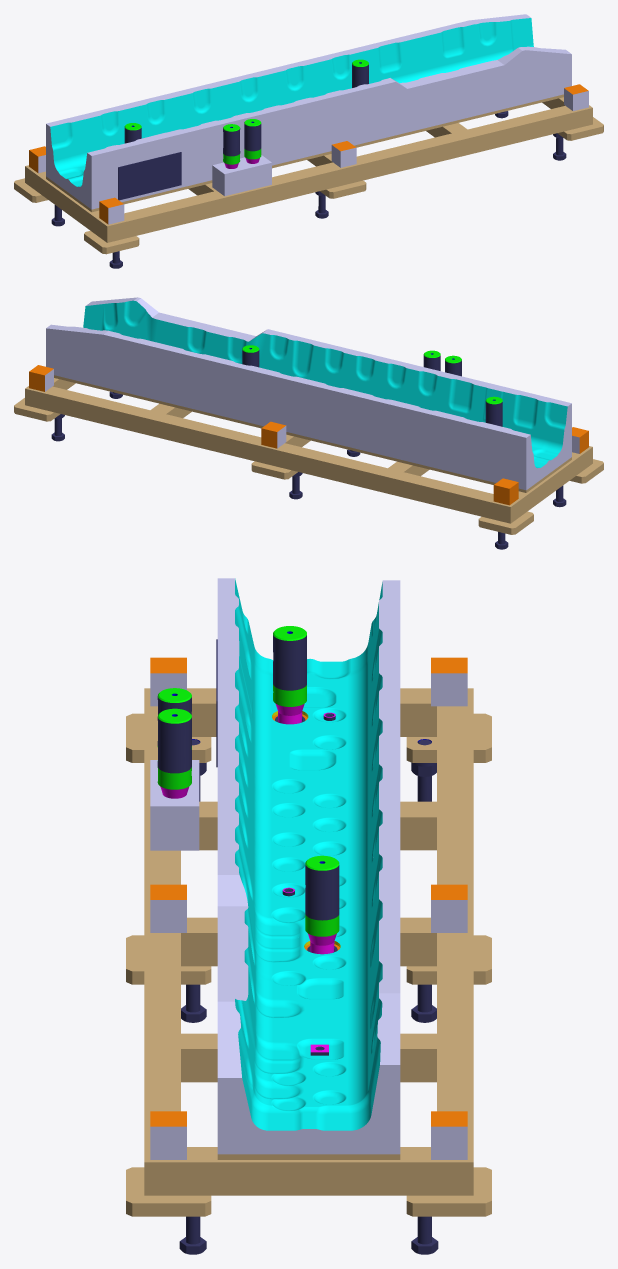
The model's file is GT146655-63225_625-3HAA-J000-H1_K00_261001-KEN_RL.obj.
The picture shows the model from 3 angles, top to bottom: view 1: azimuth 30°, elevation 25°; view 2: azimuth 150°, elevation 25°; view 3: azimuth 270°, elevation 25°; orthographic projection. The views are drawn at different scales.
Visible parts, largest first — view 1: Shell_044, Shell_017, Shell_056, Shell_057, Shell_019, Shell_007, Shell_059, Shell_058, Shell_011, Shell_005, Shell_001, Shell_003 (+5 smaller); view 2: Shell_044, Shell_016, Shell_019, Shell_007, Shell_012, Shell_000, Shell_004, Shell_002, Shell_010, Shell_061, Shell_008, Shell_005 (+2 smaller); view 3: Shell_044, Shell_016, Shell_018, Shell_017, Shell_014, Shell_013, Shell_057, Shell_060, Shell_061, Shell_019, Shell_059, Shell_015 (+13 smaller).
Boxes of the visible parts, bbox=[...] form: Shell_044: bbox=[46, 14, 571, 209]; Shell_017: bbox=[107, 105, 592, 242]; Shell_056: bbox=[118, 152, 181, 200]; Shell_057: bbox=[212, 155, 271, 196]; Shell_019: bbox=[25, 166, 107, 242]; Shell_007: bbox=[46, 94, 563, 212]; Shell_059: bbox=[244, 119, 261, 163]; Shell_058: bbox=[223, 124, 240, 168]; Shell_011: bbox=[84, 230, 139, 254]; Shell_005: bbox=[99, 197, 124, 224]; Shell_001: bbox=[331, 141, 356, 167]; Shell_003: bbox=[564, 84, 588, 111]; Shell_044: bbox=[46, 297, 571, 490]; Shell_016: bbox=[25, 386, 510, 523]; Shell_019: bbox=[510, 447, 592, 523]; Shell_007: bbox=[54, 375, 571, 492]; Shell_012: bbox=[478, 511, 533, 534]; Shell_000: bbox=[261, 421, 286, 448]; Shell_004: bbox=[493, 478, 518, 505]; Shell_002: bbox=[29, 365, 53, 391]; Shell_010: bbox=[14, 398, 60, 421]; Shell_061: bbox=[485, 396, 502, 426]; Shell_008: bbox=[251, 461, 297, 479]; Shell_005: bbox=[572, 427, 588, 453]; Shell_044: bbox=[217, 578, 400, 1154]; Shell_016: bbox=[437, 688, 473, 1162]; Shell_018: bbox=[144, 1147, 473, 1195]; Shell_017: bbox=[144, 688, 180, 1162]; Shell_014: bbox=[181, 1033, 436, 1082]; Shell_013: bbox=[181, 917, 436, 966]; Shell_057: bbox=[150, 760, 199, 850]; Shell_060: bbox=[305, 855, 339, 954]; Shell_061: bbox=[273, 626, 306, 724]; Shell_019: bbox=[145, 688, 472, 736]; Shell_059: bbox=[157, 708, 191, 798]; Shell_015: bbox=[199, 801, 436, 850].
Size of the model in its own units: 950 by 209 by 300.
